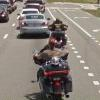Motorcycle: (28, 33, 79, 100)
